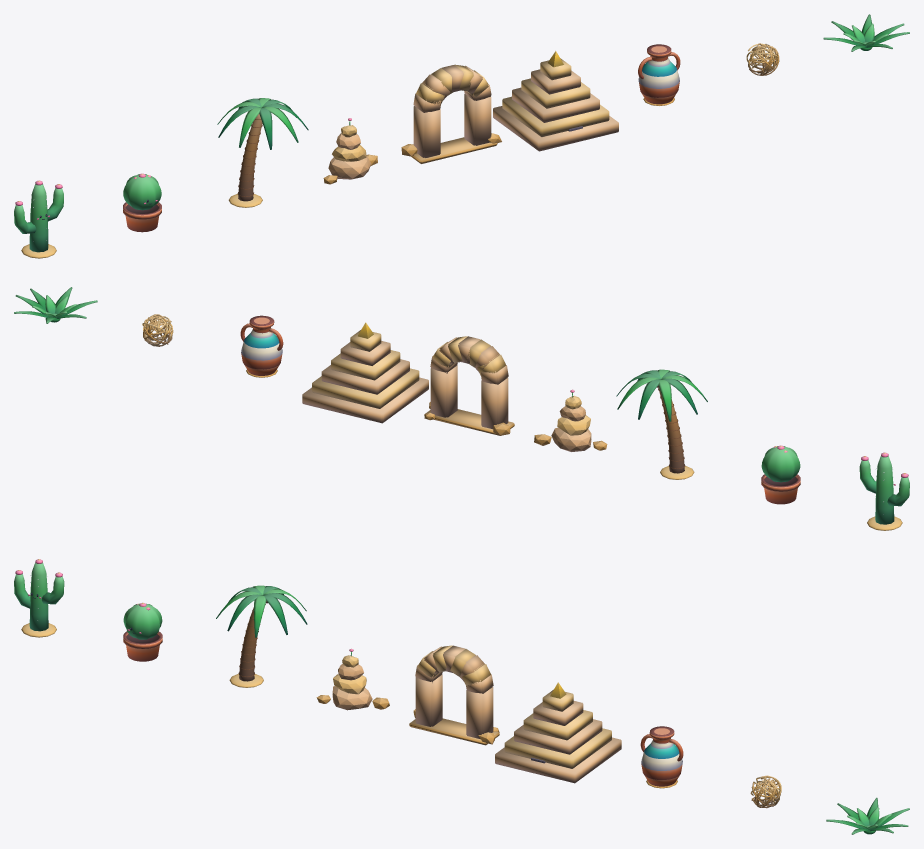
The model's file is DesertProps.fbx.
3 views of the same model, one above another, from view 1: azimuth 30°, elevation 25°; view 2: azimuth 150°, elevation 25°; view 3: azimuth 330°, elevation 25° (orthographic).
Visible parts, largest first — view 1: StepPyramid, SandstoneArch, PalmTree, Saguaro, ClayVase, BarrelCactus, RockStack, Agave, Tumbleweed; view 2: StepPyramid, SandstoneArch, PalmTree, Saguaro, ClayVase, BarrelCactus, RockStack, Agave, Tumbleweed; view 3: StepPyramid, SandstoneArch, PalmTree, Saguaro, ClayVase, BarrelCactus, RockStack, Agave, Tumbleweed.
Part boxes in pixels (bbox=[...]): StepPyramid: bbox=[493, 51, 618, 151]; SandstoneArch: bbox=[401, 64, 501, 163]; PalmTree: bbox=[217, 98, 308, 207]; Saguaro: bbox=[14, 180, 63, 258]; ClayVase: bbox=[638, 44, 680, 105]; BarrelCactus: bbox=[123, 173, 161, 232]; RockStack: bbox=[323, 118, 377, 184]; Agave: bbox=[823, 14, 909, 51]; Tumbleweed: bbox=[746, 43, 779, 75]; StepPyramid: bbox=[302, 322, 428, 423]; SandstoneArch: bbox=[424, 336, 514, 435]; PalmTree: bbox=[616, 369, 707, 479]; Saguaro: bbox=[859, 452, 909, 530]; ClayVase: bbox=[240, 315, 283, 377]; BarrelCactus: bbox=[761, 445, 800, 504]; RockStack: bbox=[534, 389, 607, 451]; Agave: bbox=[14, 287, 97, 323]; Tumbleweed: bbox=[142, 314, 173, 346]; StepPyramid: bbox=[495, 682, 621, 783]; SandstoneArch: bbox=[409, 645, 499, 745]; PalmTree: bbox=[216, 585, 307, 687]; Saguaro: bbox=[14, 559, 64, 637]; ClayVase: bbox=[640, 726, 683, 788]; BarrelCactus: bbox=[123, 602, 162, 661]; RockStack: bbox=[316, 648, 389, 710]; Agave: bbox=[826, 797, 909, 834]; Tumbleweed: bbox=[750, 775, 781, 808].
Size of the model in its own units: 15491 by 1557 by 1405.
Materials: 1 (1 with a texture image).
